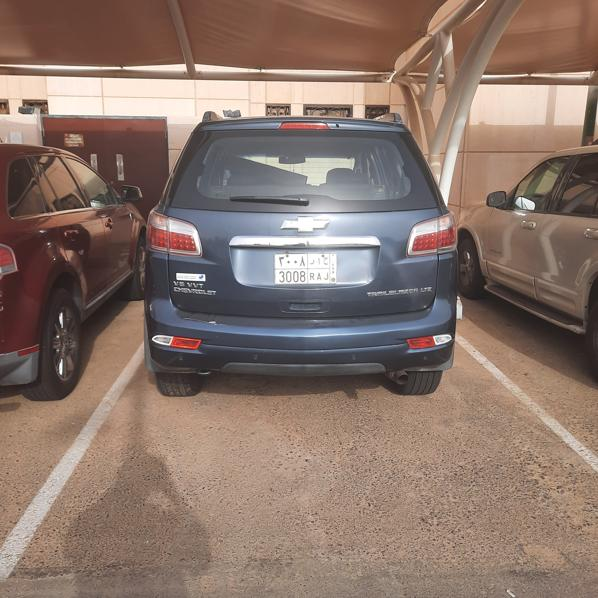numberplate: (274, 253, 336, 284)
